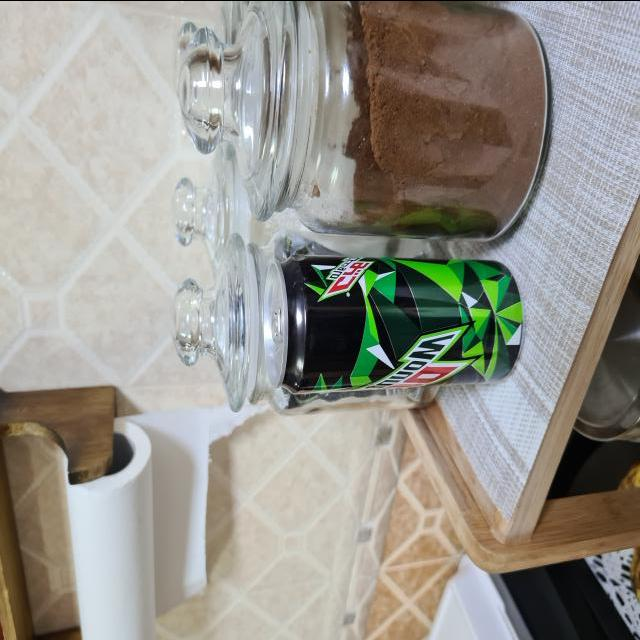can: (264, 254, 526, 397)
